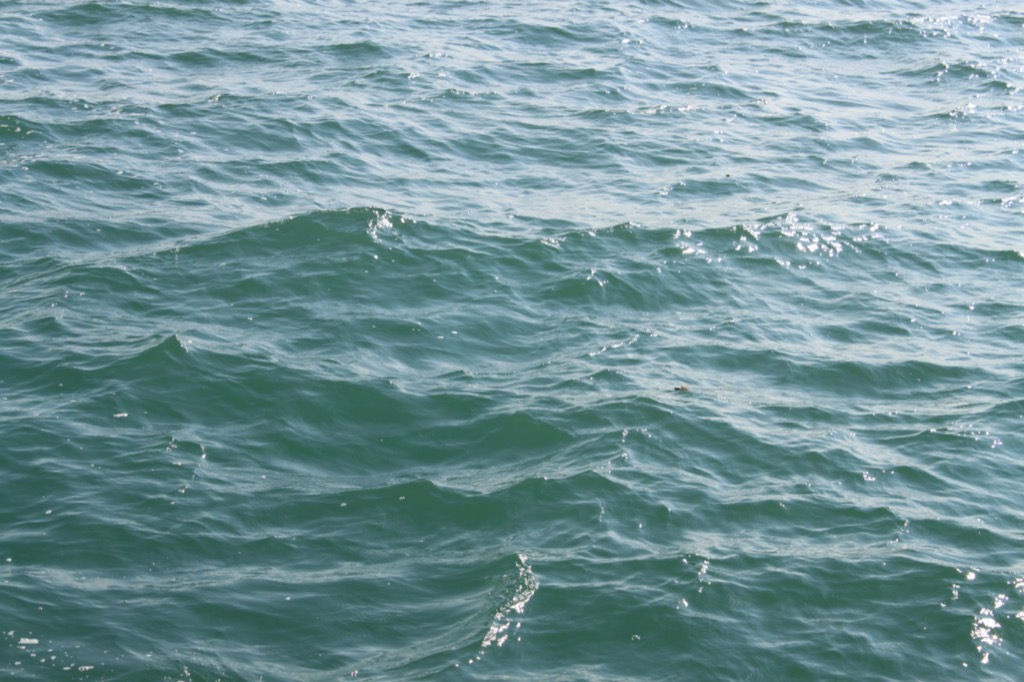plastic: (657, 368, 705, 405)
